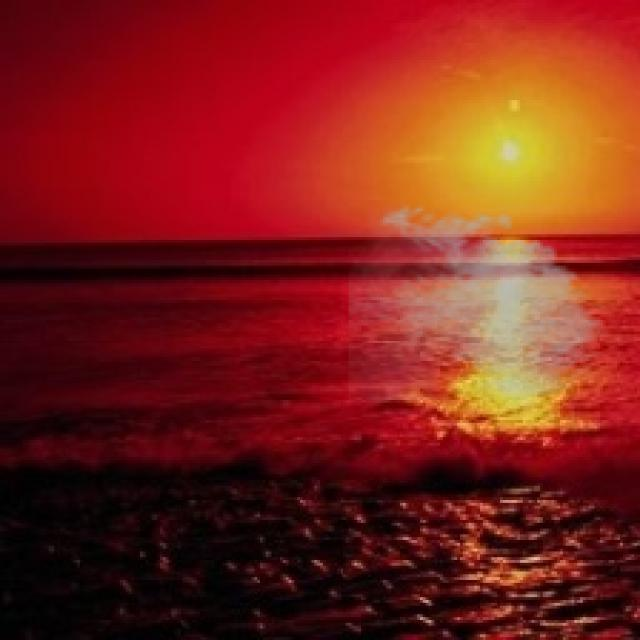smoke: (349, 200, 614, 403)
